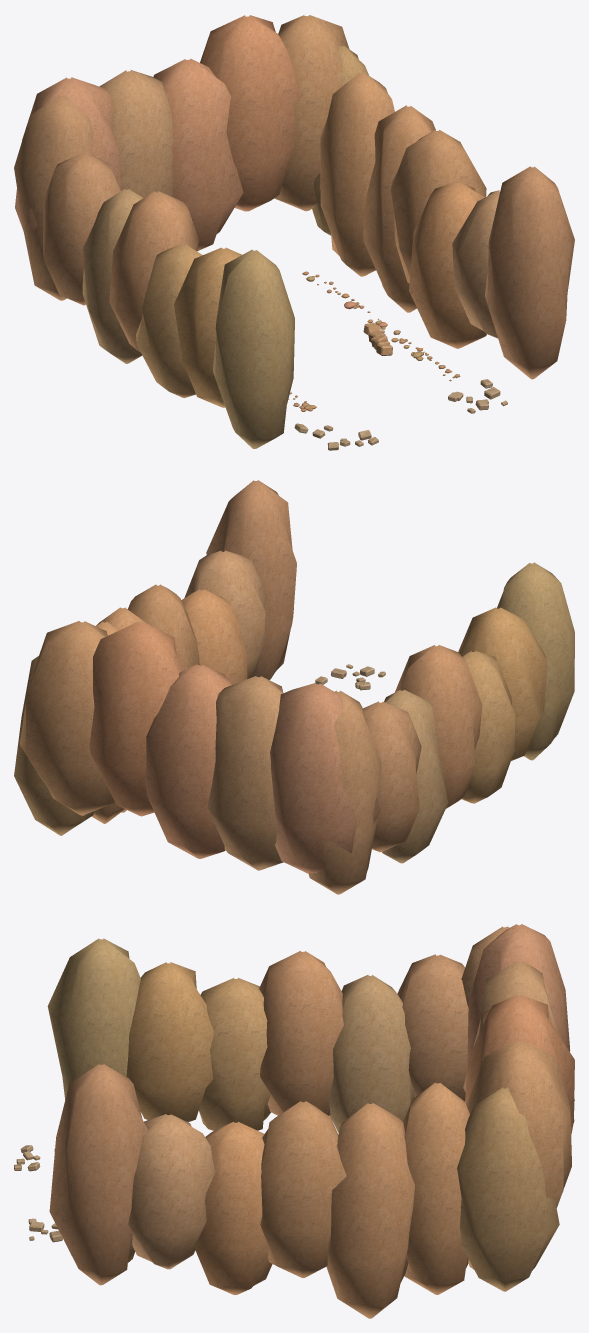
The model's file is rubble.glb.
3 renders of one model, top to bottom at view 1: azimuth 30°, elevation 25°; view 2: azimuth 150°, elevation 25°; view 3: azimuth 270°, elevation 25°, orthographic. The views are drawn at different scales.
Visible parts, largest first — view 1: Stone Sanctum - fallen stone and canyon; view 2: Stone Sanctum - fallen stone and canyon; view 3: Stone Sanctum - fallen stone and canyon.
Boxes of the visible parts, x1=… form: Stone Sanctum - fallen stone and canyon: x1=14, y1=15, x2=574, y2=450; Stone Sanctum - fallen stone and canyon: x1=14, y1=480, x2=574, y2=894; Stone Sanctum - fallen stone and canyon: x1=14, y1=924, x2=574, y2=1318.
Bounding box in the file's own units: 22.08 × 14.99 × 27.52.
2 materials, 2 textured.
